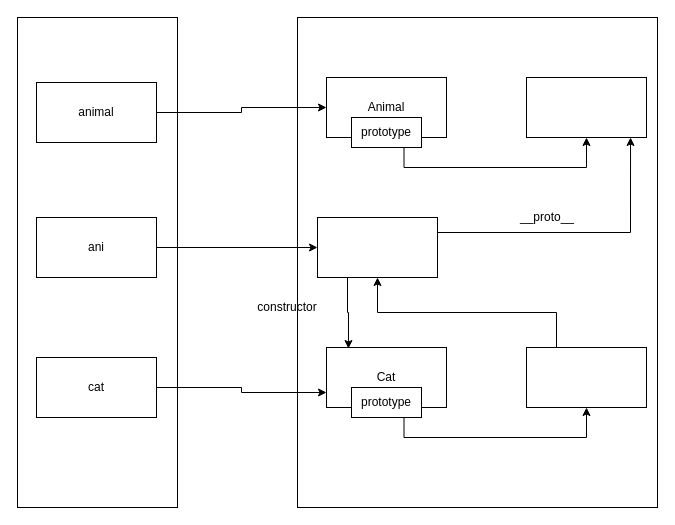
The diagram is 675 pixels wide and 525 high, and some of its shapes have lost their labels. Here are the shapes that lost their labels. From the top down, the centre of each, then its label:
point 586,107: Animal的原型对象
point 377,247: new Animal
point 586,377: Cat的原型对象
